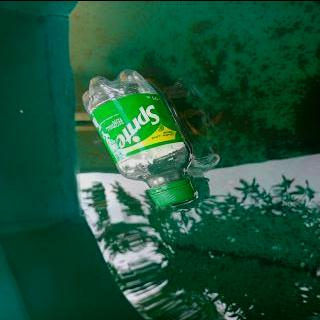bottle: (79, 66, 197, 209)
